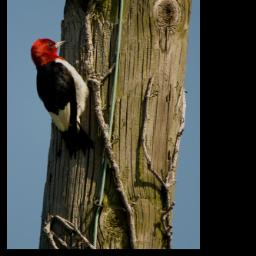Woodpecker: (30, 37, 105, 160)
